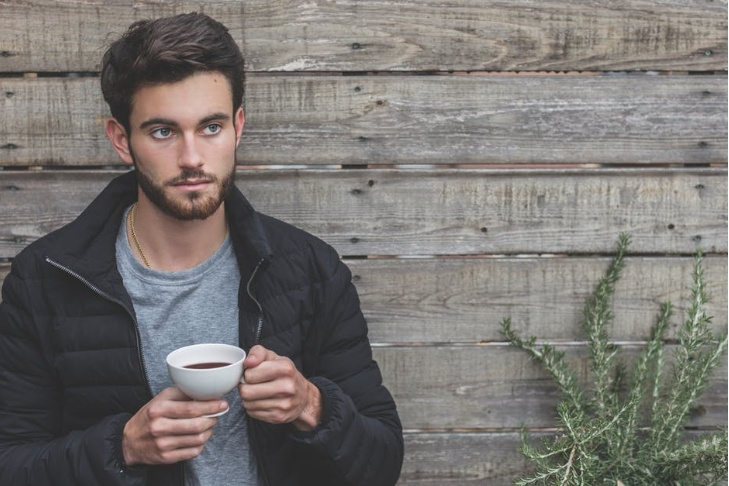face: (132, 72, 235, 219)
